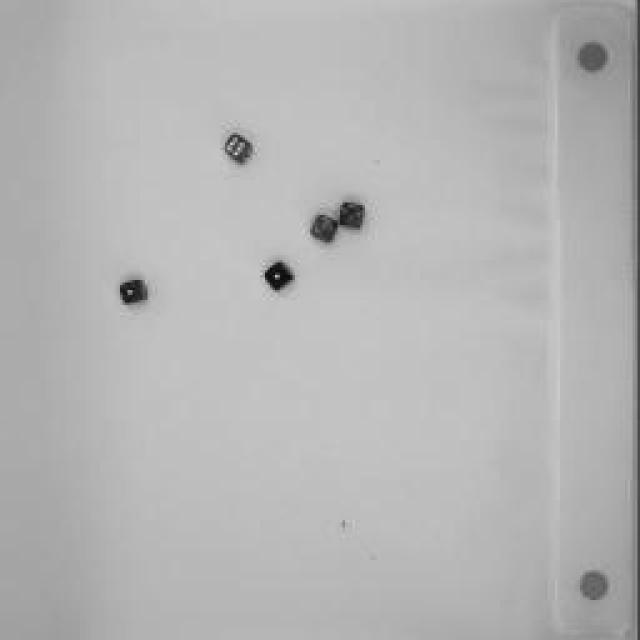dice_1: (264, 260, 296, 292), (118, 275, 150, 307)
dice_2: (310, 216, 340, 244)
dice_5: (340, 202, 368, 230)
dice_6: (222, 133, 258, 165)
